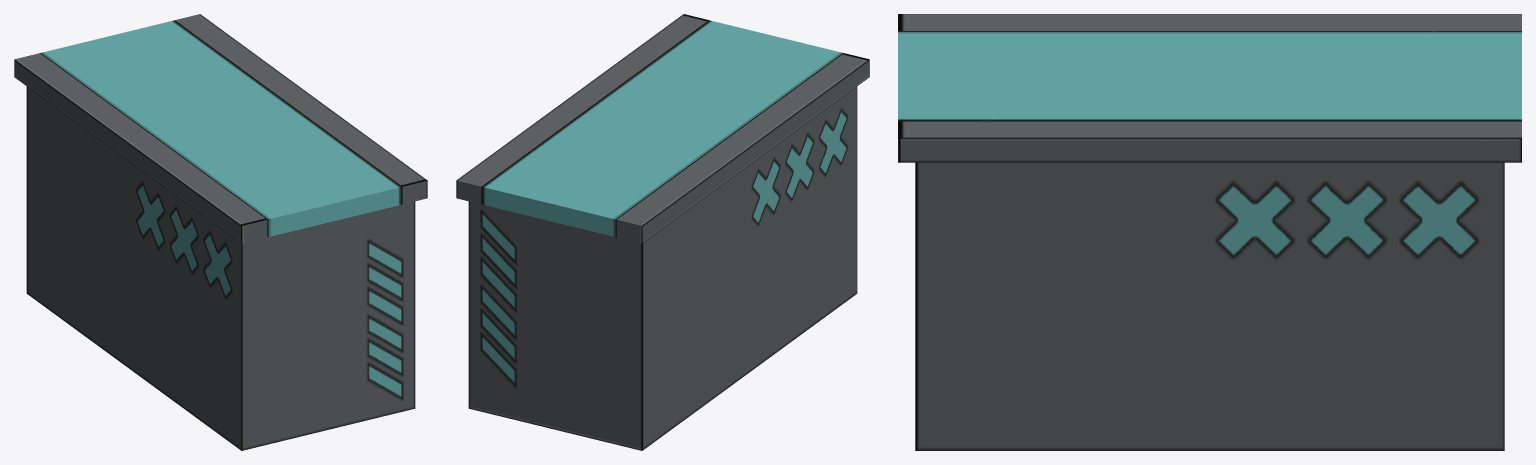
Rendered from Platform01.fbx.
3 renders of one model, left to right at view 1: azimuth 30°, elevation 25°; view 2: azimuth 150°, elevation 25°; view 3: azimuth 270°, elevation 25°, orthographic. The views are drawn at different scales.
Parts seen in each view (by area): view 1: polySurface434, polySurface435; view 2: polySurface434, polySurface435; view 3: polySurface434, polySurface435.
Part boxes in pixels (x1=…): polySurface434: x1=26, y1=86, x2=415, y2=450; polySurface435: x1=14, y1=14, x2=427, y2=243; polySurface434: x1=468, y1=86, x2=857, y2=450; polySurface435: x1=456, y1=14, x2=869, y2=243; polySurface434: x1=915, y1=162, x2=1504, y2=450; polySurface435: x1=898, y1=14, x2=1521, y2=162.
Size of the model in its own units: 0.424 by 0.5035 by 0.8985.
1 material, 1 textured.
